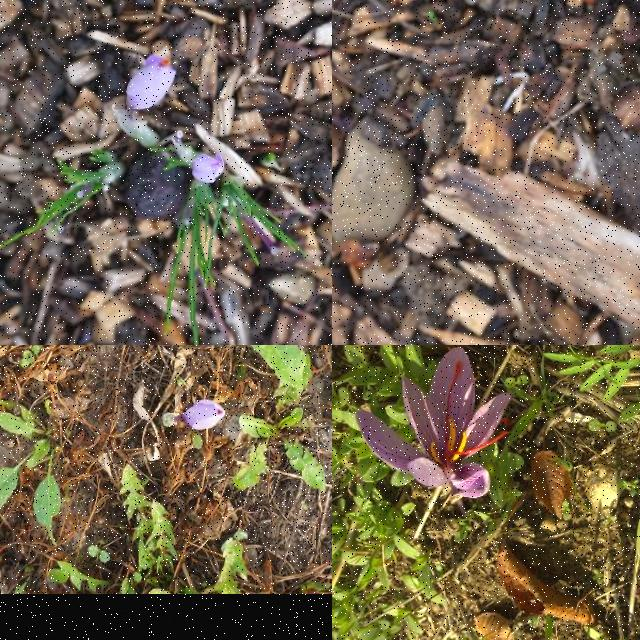flower: (356, 347, 512, 499), (125, 54, 177, 112), (180, 400, 226, 430), (192, 152, 224, 184)
